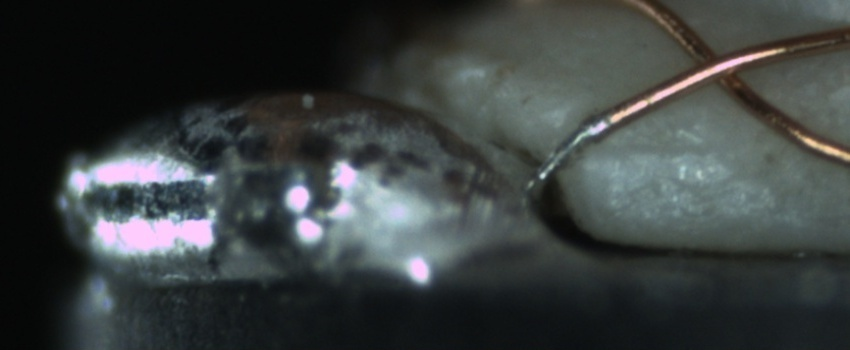CL: (671, 32, 759, 98)
DL: (592, 122, 728, 177)
TS: (534, 114, 611, 185)
TTCW: (538, 93, 641, 183)
